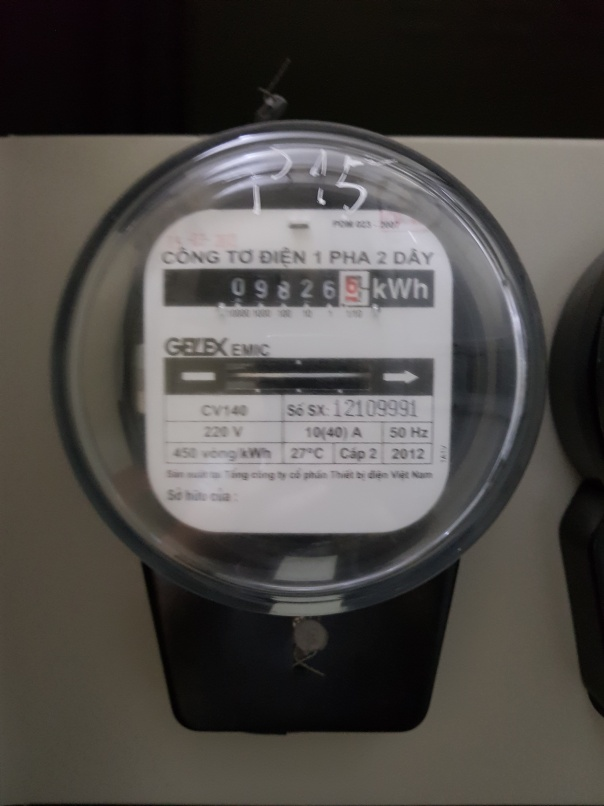counter: (164, 266, 436, 305)
electricity_meter: (48, 118, 551, 616)
